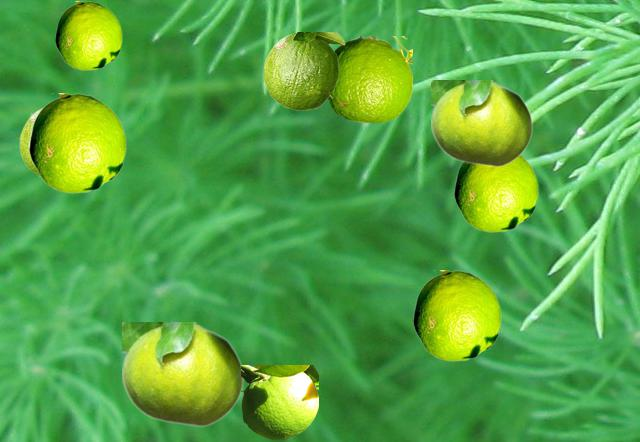dalandan: (122, 322, 243, 426), (29, 93, 125, 192), (431, 80, 532, 166), (413, 270, 500, 360), (327, 36, 411, 122), (454, 155, 537, 231), (263, 32, 344, 109), (241, 365, 317, 438), (55, 1, 121, 69), (19, 108, 40, 176)
